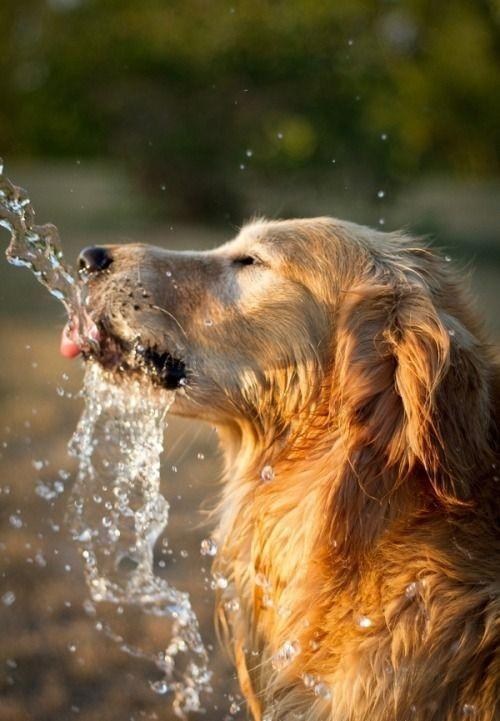adult_dog: (57, 215, 500, 721)
